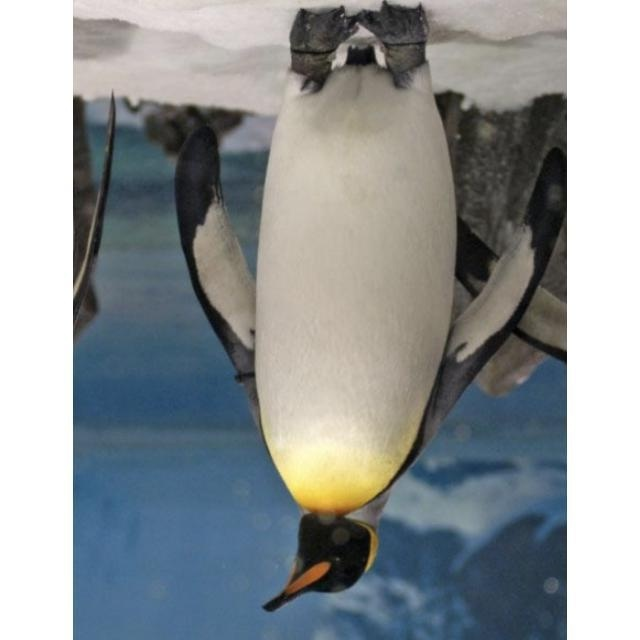penguin: (175, 5, 540, 614)
